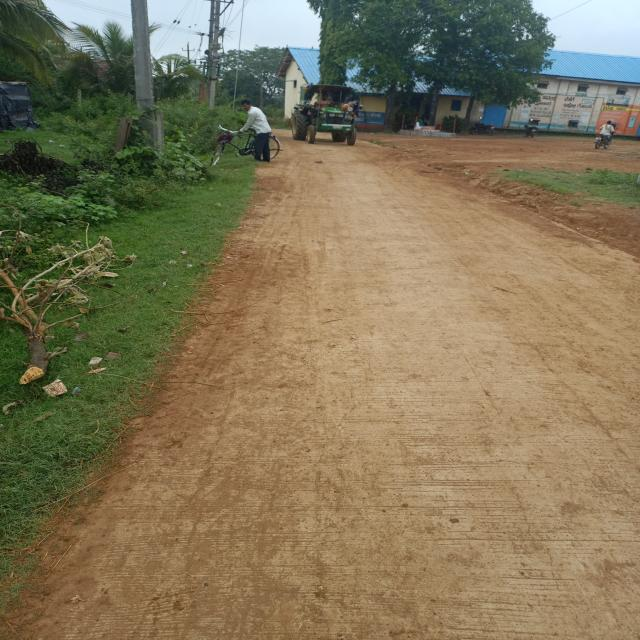Bike: (592, 132, 622, 151), (470, 120, 496, 138), (521, 124, 542, 140)
tractor: (288, 80, 367, 148)
